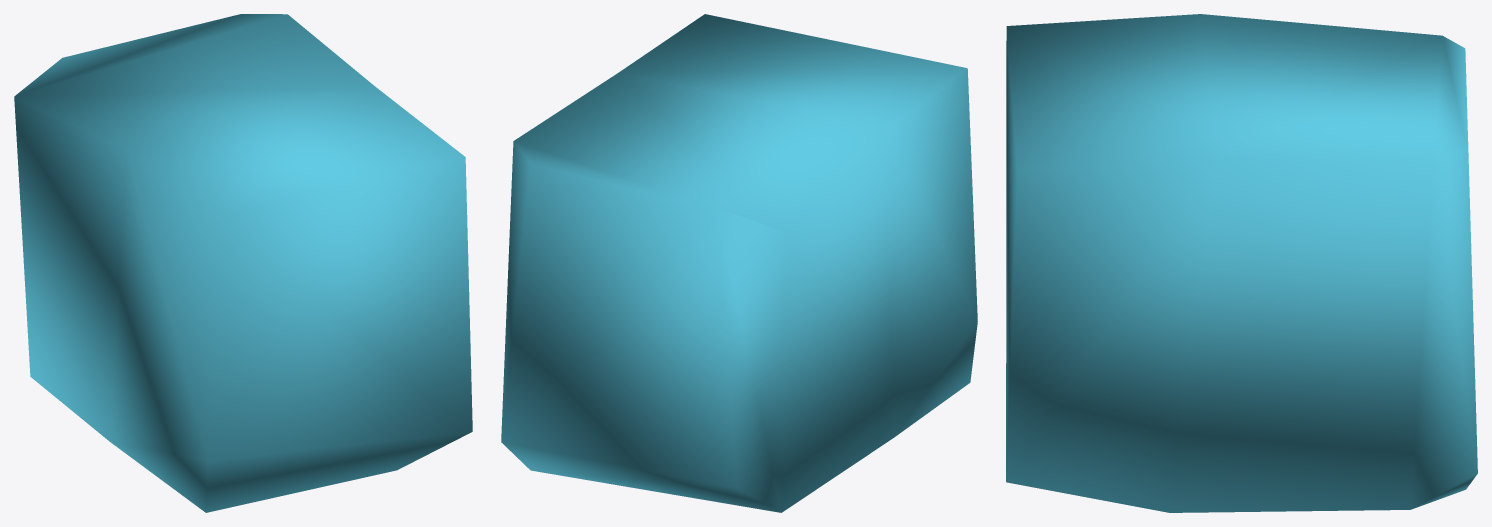
The model's file is brick_10.FBX.
3 renders of one model, left to right at view 1: azimuth 30°, elevation 25°; view 2: azimuth 150°, elevation 25°; view 3: azimuth 270°, elevation 25°, orthographic. The views are drawn at different scales.
Visible parts, largest first — view 1: brick_10; view 2: brick_10; view 3: brick_10.
Part boxes in pixels (x1,y1,x2,y2): brick_10: (14,14,472,512); brick_10: (501,14,977,512); brick_10: (1006,14,1477,512).
Bounding box in the file's own units: 9.62 × 10.06 × 12.31.
